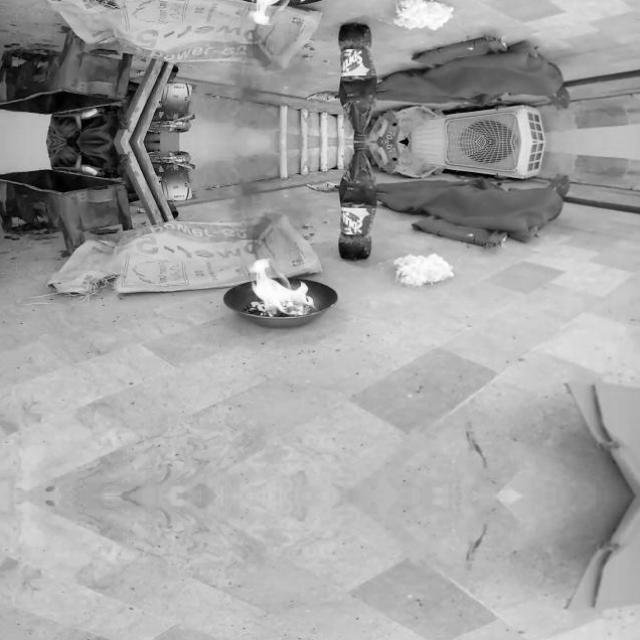smoke: (247, 256, 320, 316), (247, 0, 320, 27)
